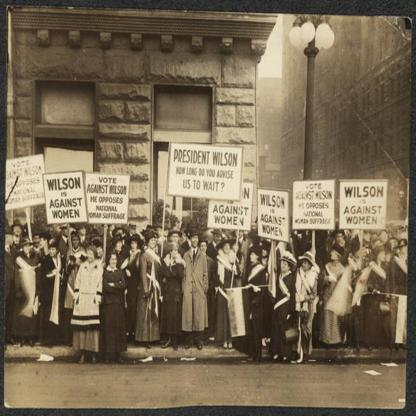face: (337, 232, 343, 246), (112, 255, 118, 268), (381, 250, 387, 263), (150, 238, 157, 249), (303, 259, 310, 270), (74, 237, 80, 249), (88, 250, 94, 262), (98, 247, 104, 259), (173, 247, 179, 259), (201, 243, 207, 255), (224, 243, 231, 253), (173, 234, 179, 245), (283, 262, 289, 273), (382, 233, 388, 244), (15, 227, 22, 236), (9, 232, 14, 244), (193, 237, 199, 247), (251, 253, 257, 263), (365, 233, 371, 243), (118, 240, 123, 251), (333, 251, 338, 262), (51, 248, 57, 257), (25, 245, 31, 254), (234, 244, 240, 253), (216, 234, 221, 244), (132, 241, 137, 250), (41, 238, 45, 248), (403, 247, 408, 255), (82, 228, 87, 235), (66, 229, 69, 236)
